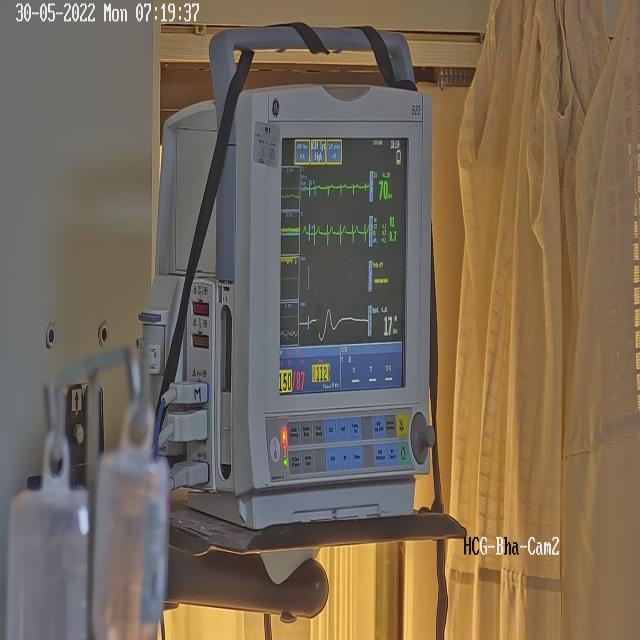Monitor: (150, 18, 468, 559)
